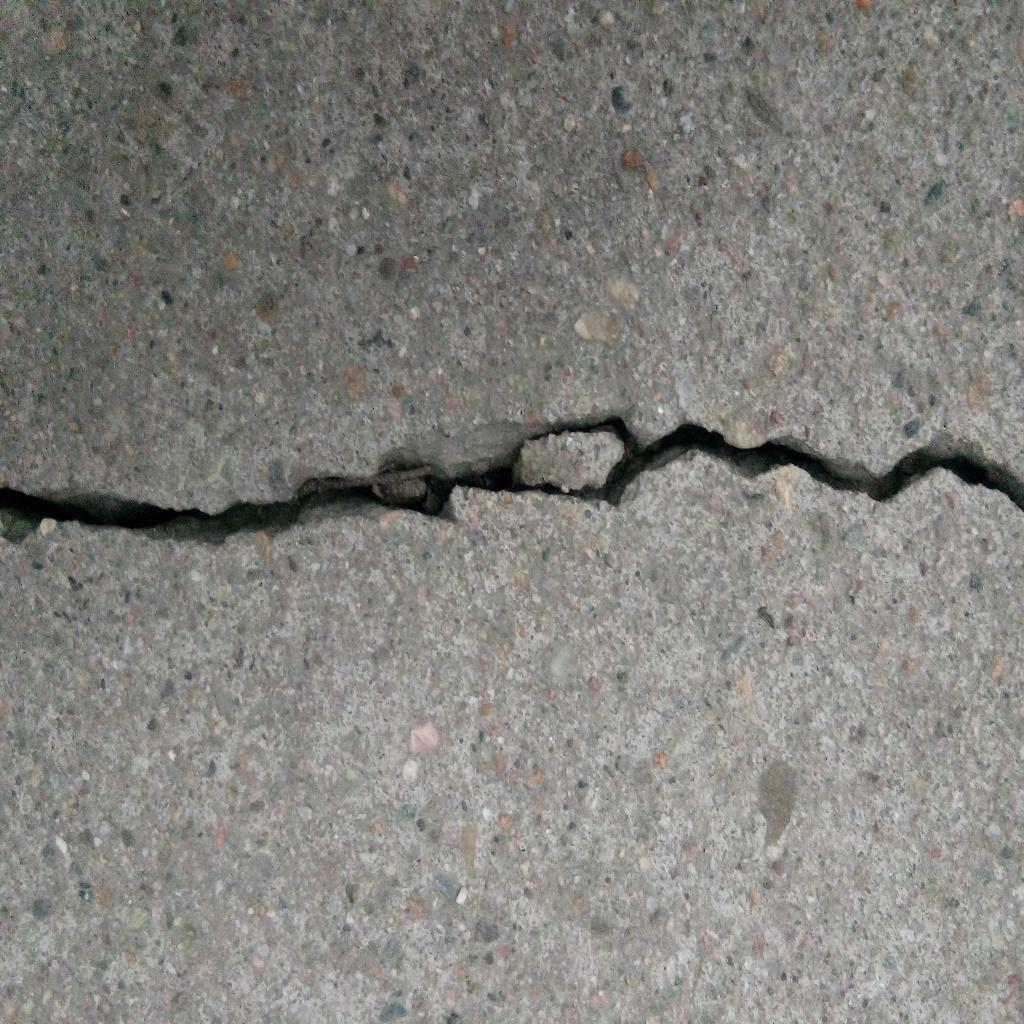Crack: (1, 415, 1024, 549)
